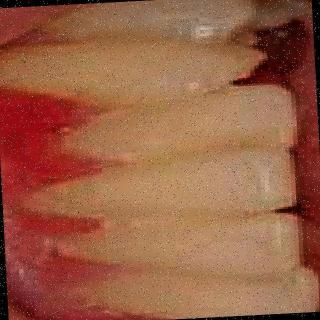calculus: (79, 171, 173, 230), (70, 103, 136, 166)
maligned: (21, 27, 273, 109)
